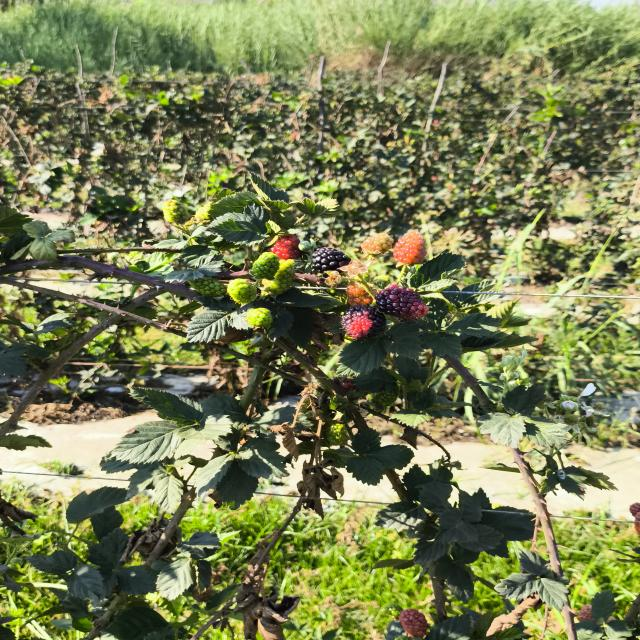maduro: (312, 247, 351, 276)
marron: (375, 285, 428, 319), (341, 305, 385, 339)
naranja: (393, 230, 426, 264), (270, 235, 300, 260), (361, 233, 393, 254), (346, 283, 373, 306)
verde: (262, 259, 295, 294), (250, 252, 281, 279), (227, 279, 257, 304), (190, 277, 226, 297), (162, 199, 189, 224), (246, 308, 272, 327)
